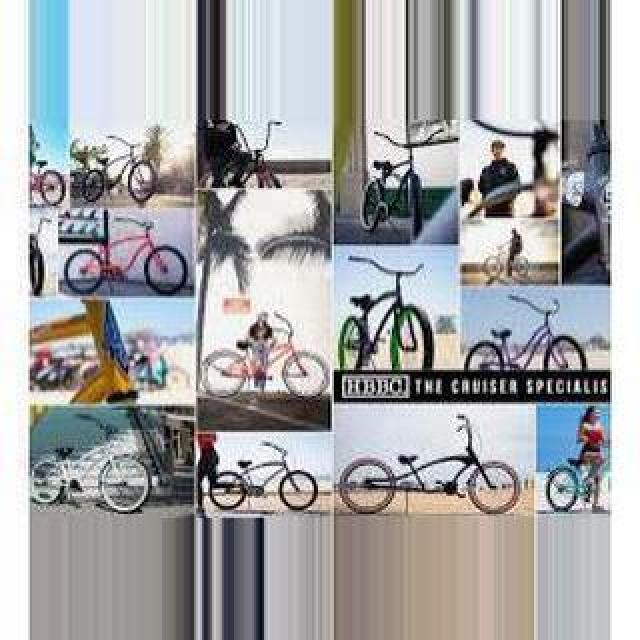MC-Bike: (468, 138, 522, 218), (574, 406, 606, 506)
Person: (338, 414, 522, 516), (30, 404, 160, 512), (336, 254, 436, 372), (64, 214, 188, 298), (204, 320, 330, 400), (464, 298, 588, 374), (210, 440, 318, 512), (360, 136, 424, 238), (74, 134, 160, 206), (546, 448, 610, 512), (486, 232, 528, 286), (30, 158, 66, 206)
